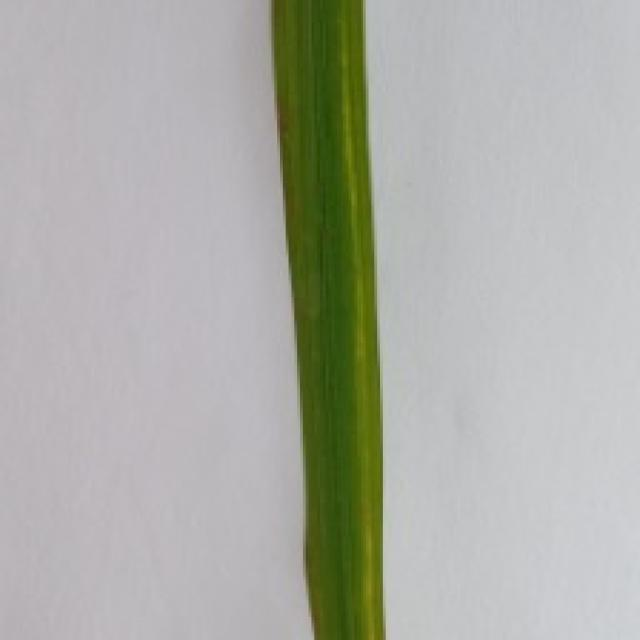Bacterial_Blight: (326, 0, 382, 640), (260, 0, 308, 287)
